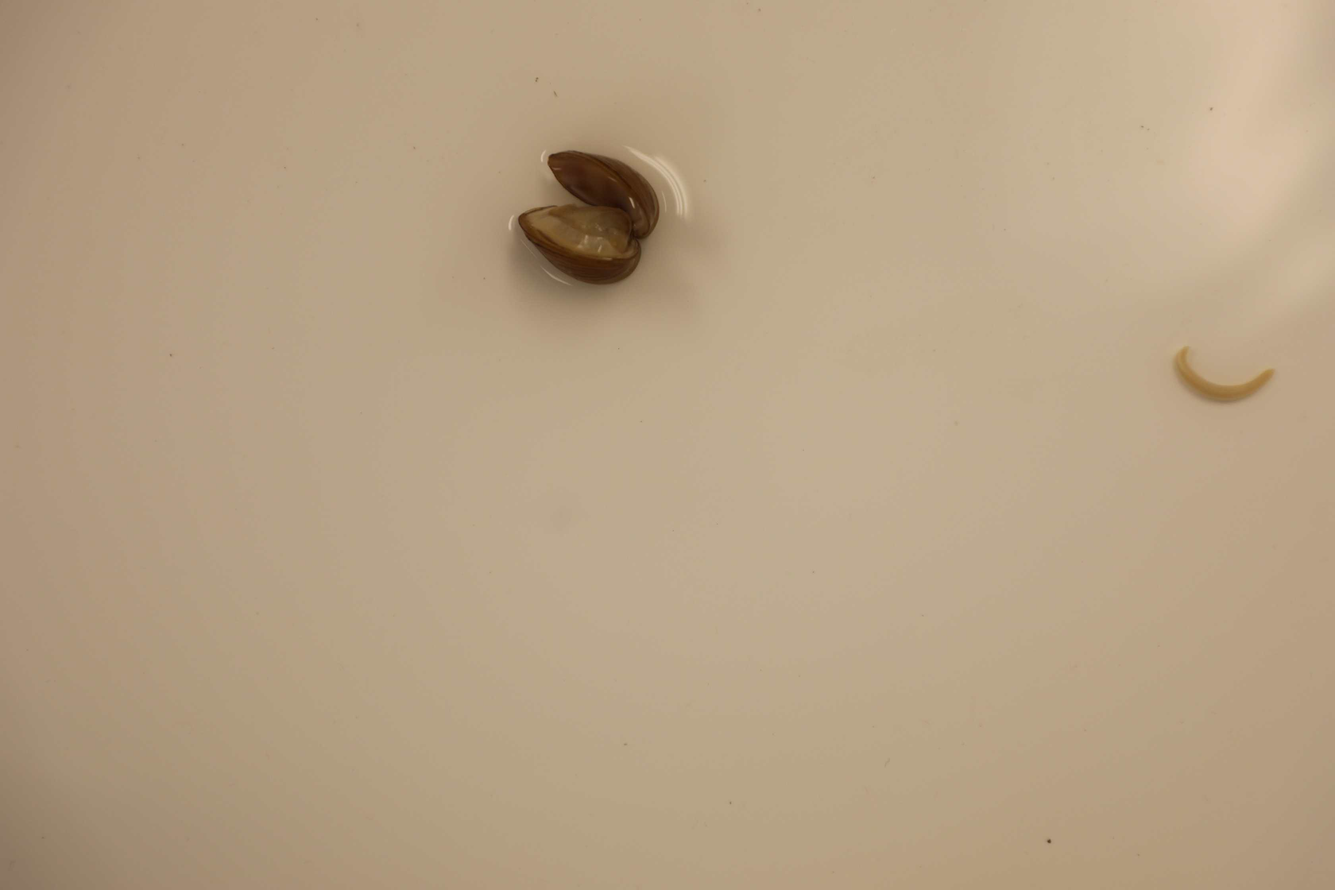Cadisfly: (1174, 348, 1273, 408)
Other: (515, 149, 662, 287)
